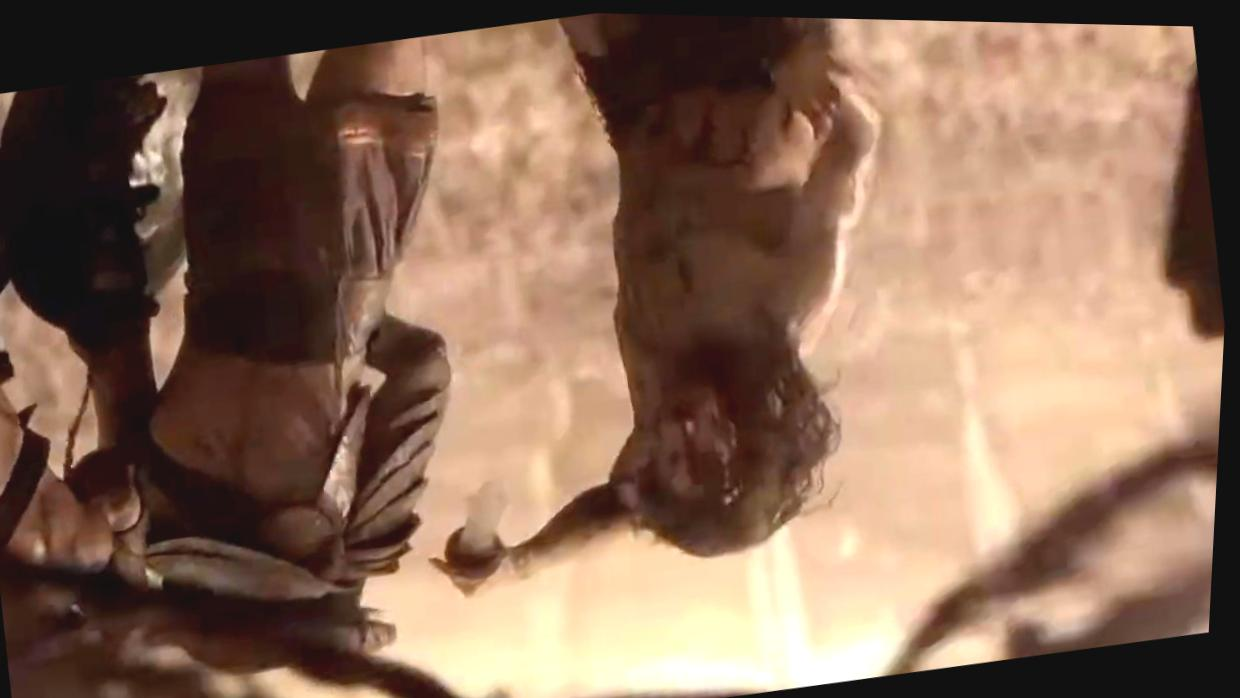Fire: (657, 369, 743, 497)
